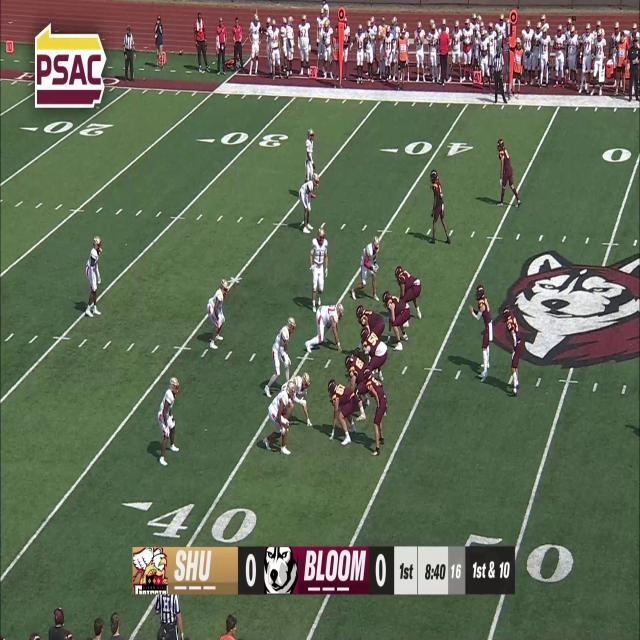football: (354, 348, 362, 357)
